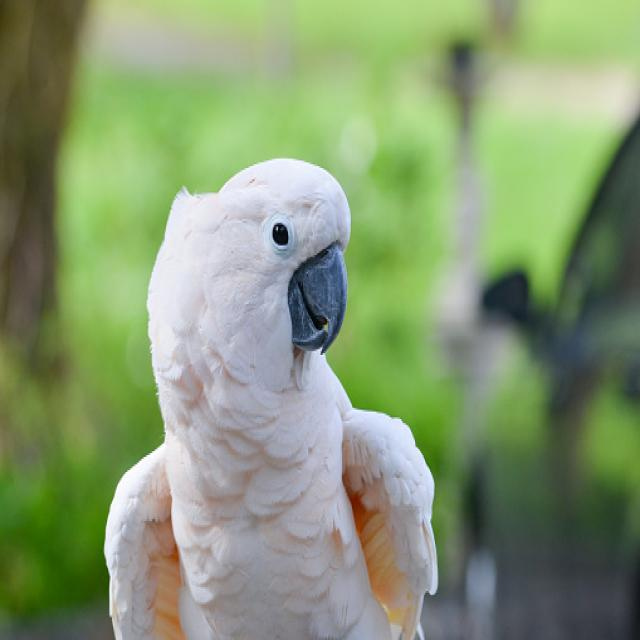Kakatua Putih: (63, 126, 490, 640)
